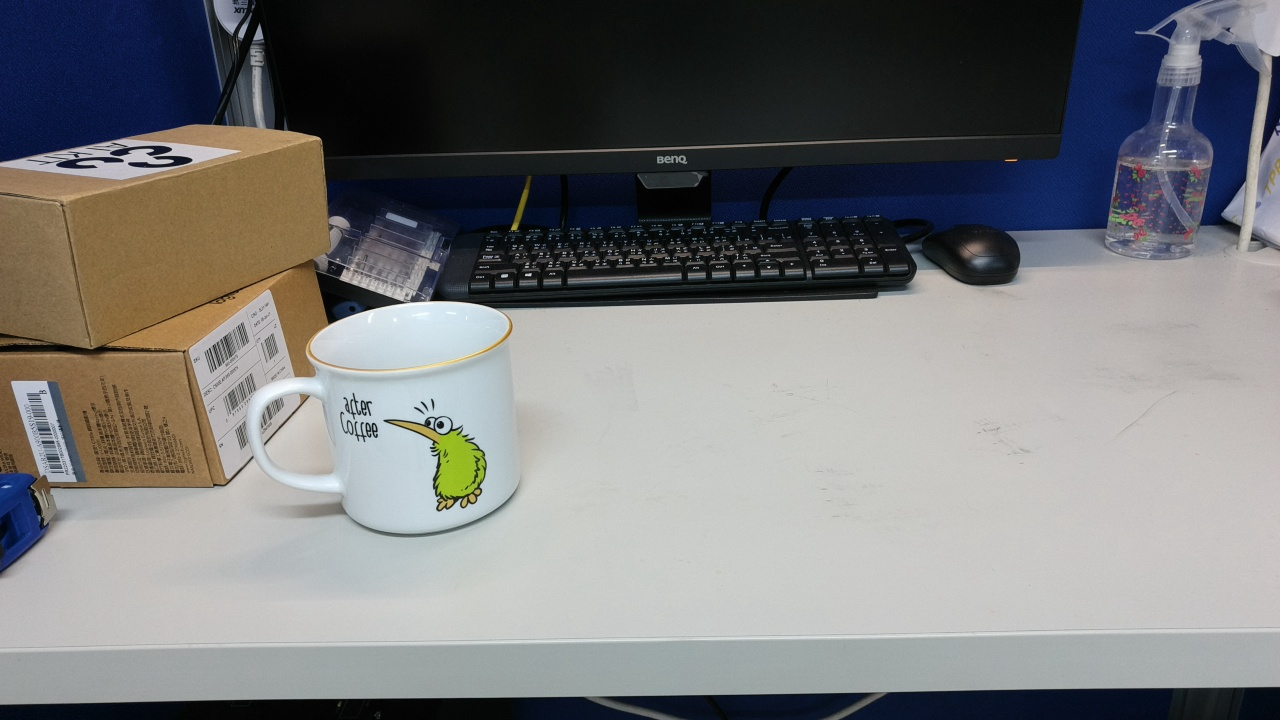circle: (305, 446, 464, 560)
